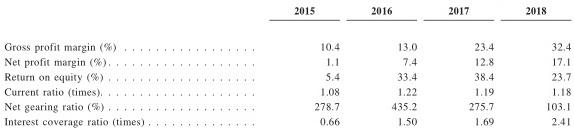column: (4, 1, 256, 129), (372, 1, 419, 129), (525, 1, 571, 129), (295, 1, 340, 129), (449, 1, 494, 129)
row: (1, 42, 574, 53), (1, 6, 574, 16), (1, 73, 574, 82), (1, 88, 574, 97), (1, 117, 574, 126), (1, 102, 573, 111), (1, 58, 574, 66)
